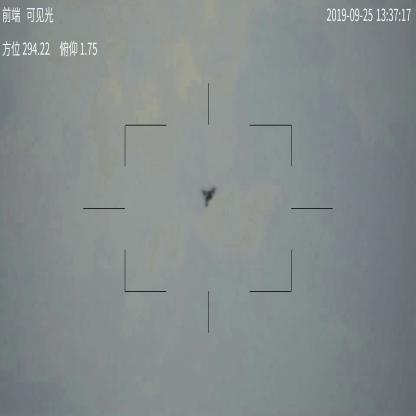uav: (201, 183, 220, 207)
